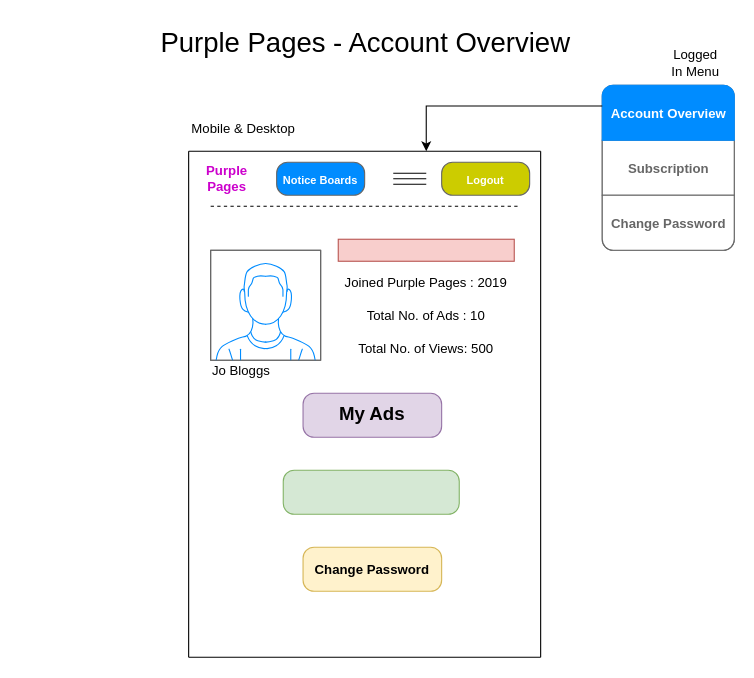
The diagram is 754 pixels wide and 678 high, and some of its shapes have lost their labels. The shapes that lost their labels are listed below. From the top down, each one's centre as x and y in pixels, then its label:
pixel 425 249: Subscription Active / Expired
pixel 370 491: My Subscription
